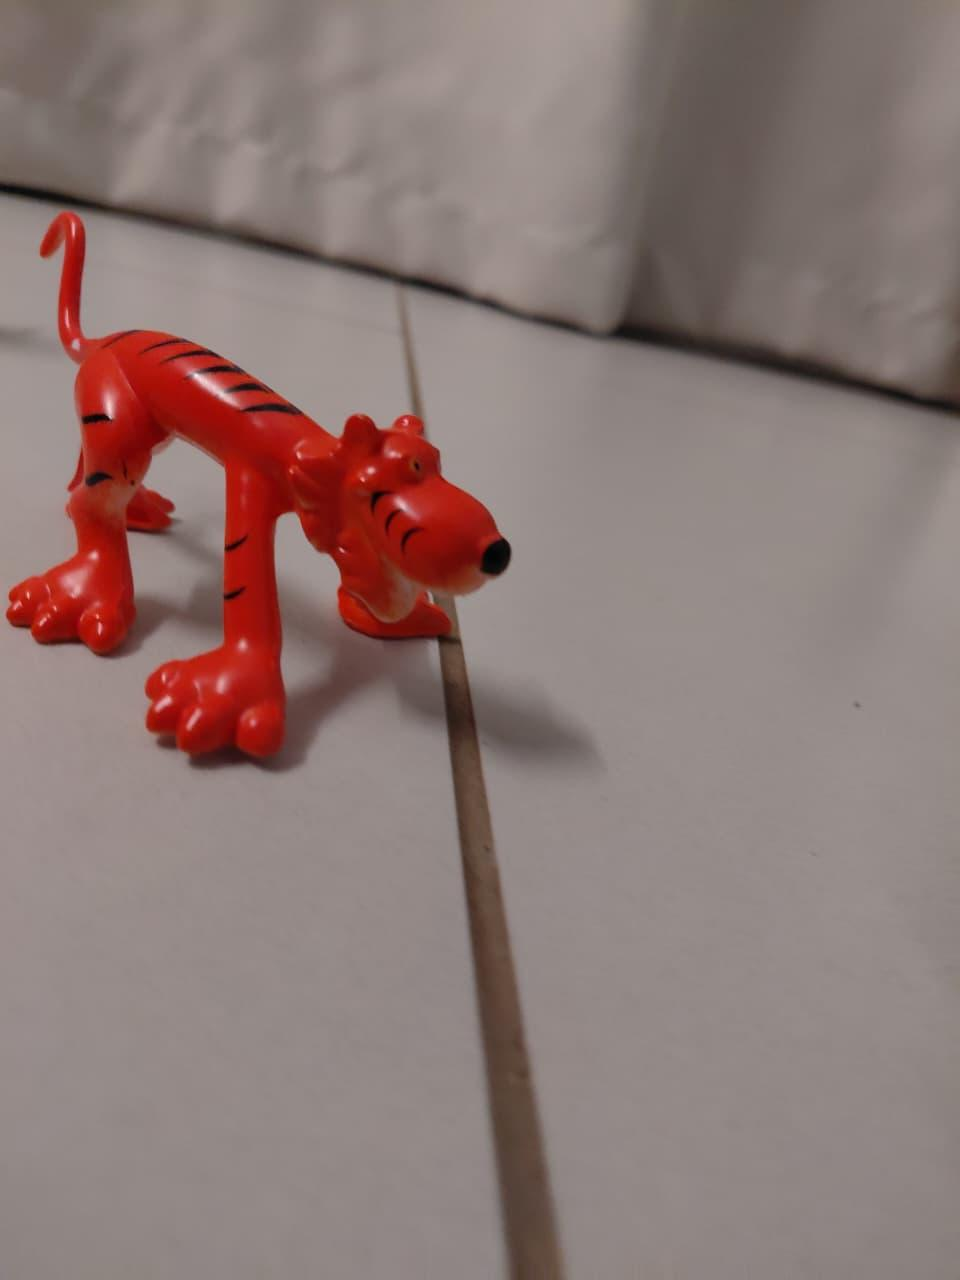tiger: (2, 204, 514, 777)
